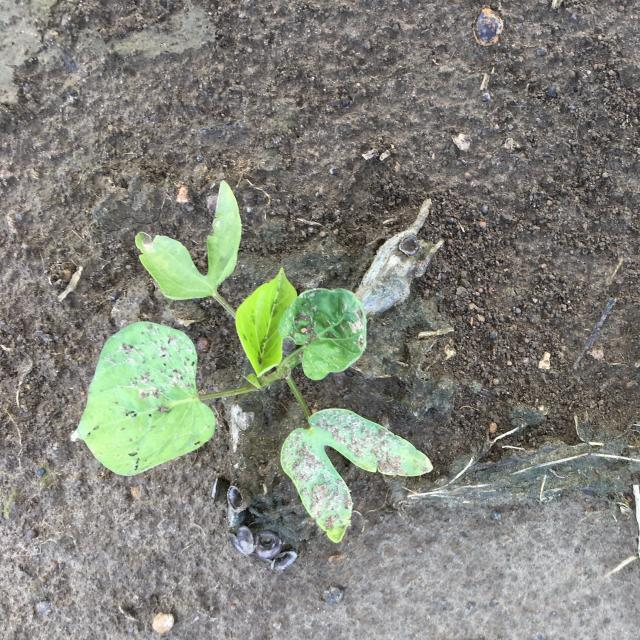MorningGlory: (76, 180, 433, 543)
